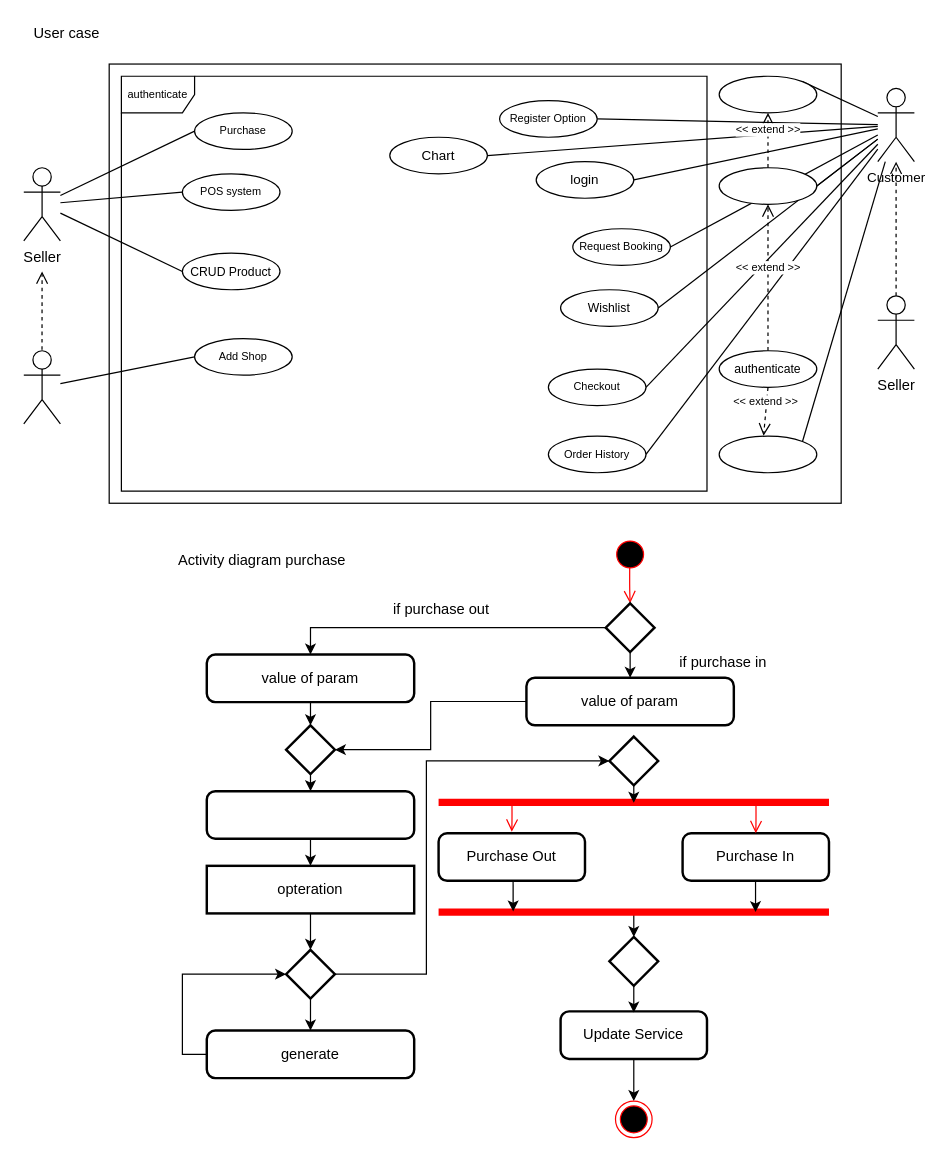
The diagram is 947 pixels wide and 1159 high, and some of its shapes have lost their labels. The shapes that lost their labels are listed below. From the top down, each one's centre as x and y in pixels, then its label:
[767,94]: View Product
[767,185]: Add to cart
[41,387]: Admin
[767,454]: Filer Product
[310,814]: query data
